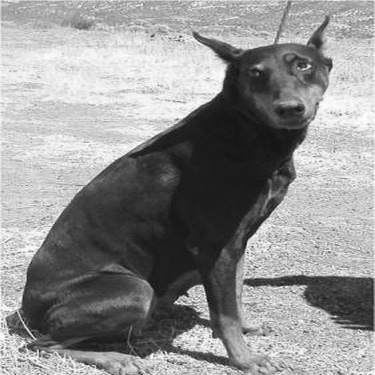dog: (3, 8, 343, 373)
